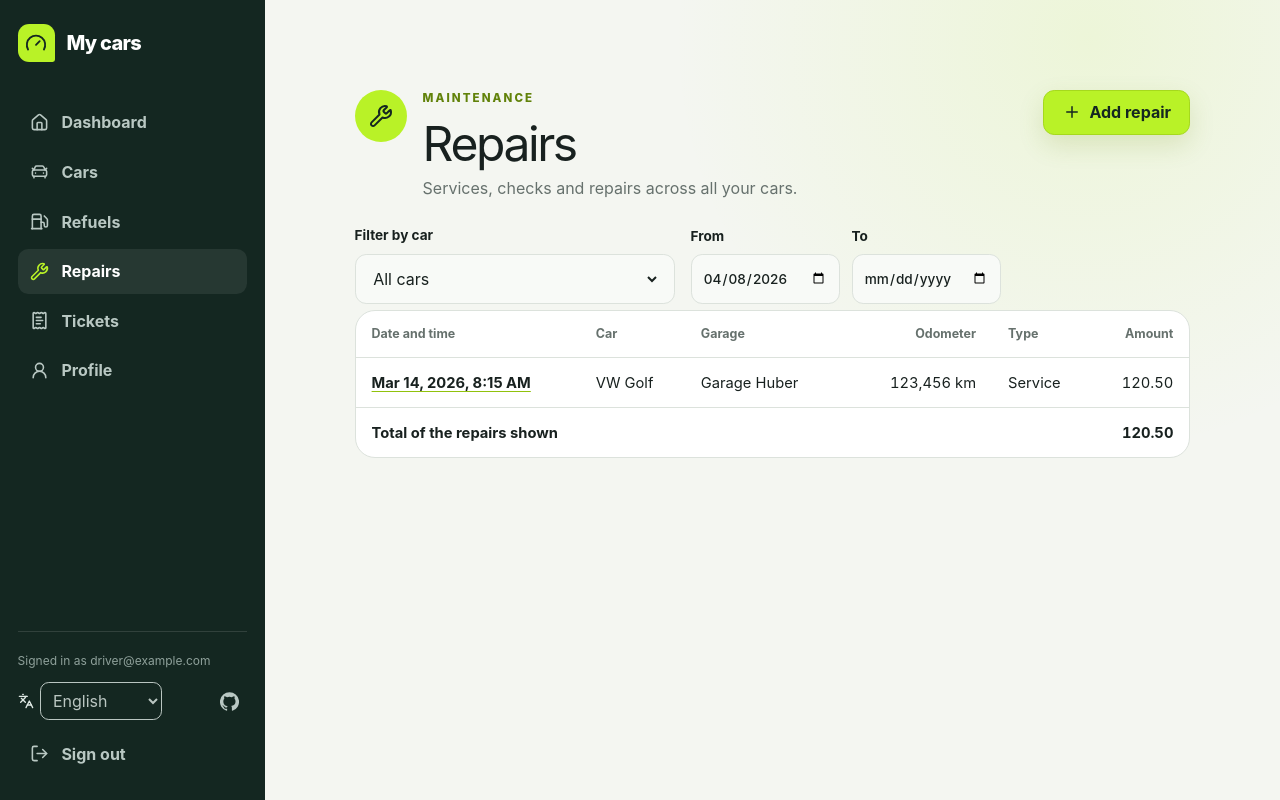
Test: repairs list › follows a switch to German
The width and height of the screenshot is (1280, 800).
Expected: the text "Garage Huber" is shown, 685,358 -> 854,408
Select "Deutsch" in the dropdown named "Language" at (101, 701), box 40,682 -> 162,720
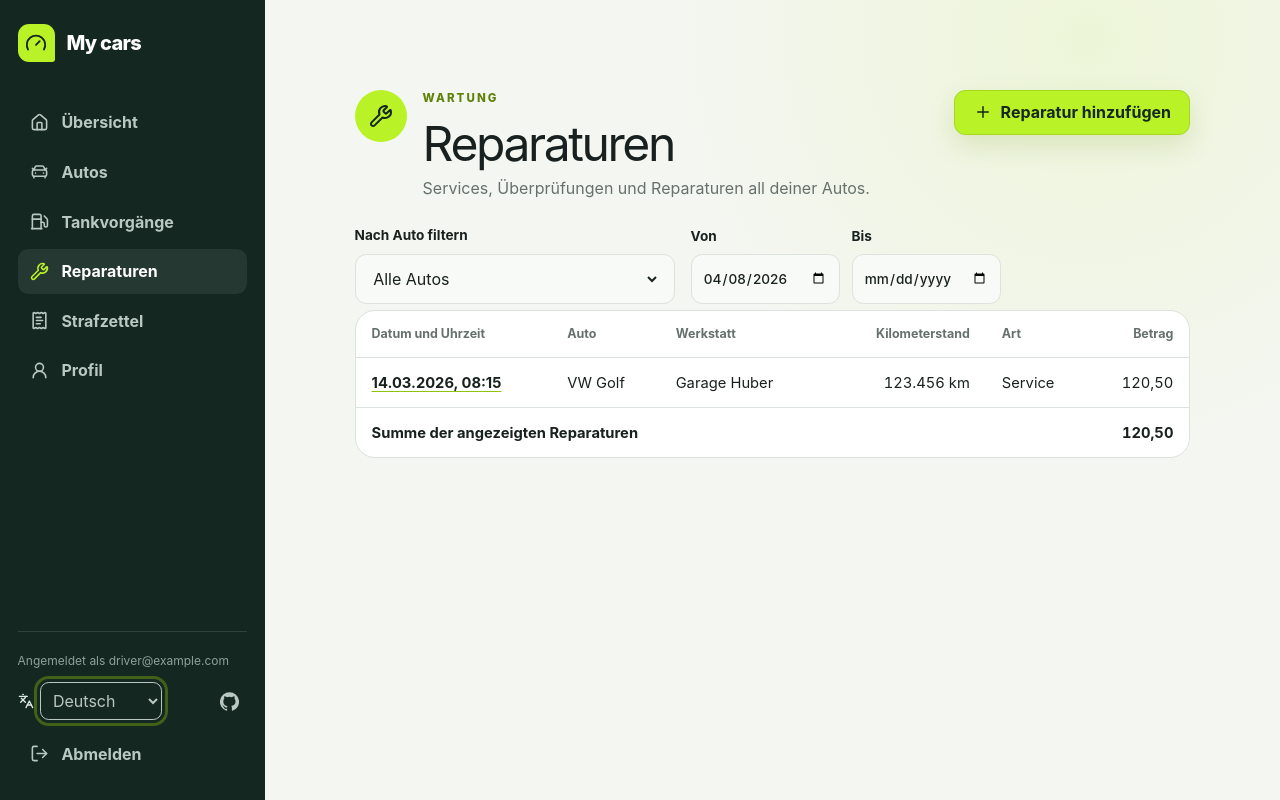
Expected: the heading "Reparaturen" is shown, 423,114 -> 674,173
Expected: the column heading "Werkstatt" is shown, 660,311 -> 834,357
Expected: the text "Summe der angezeigten Reparaturen" is shown, 356,408 -> 1088,458
